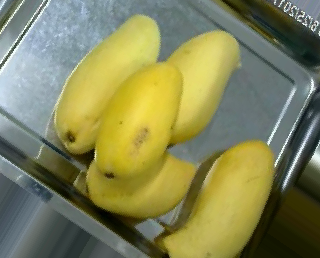Mango: (55, 10, 161, 156), (162, 142, 273, 254), (150, 29, 239, 147), (96, 61, 183, 179), (83, 147, 194, 215)
